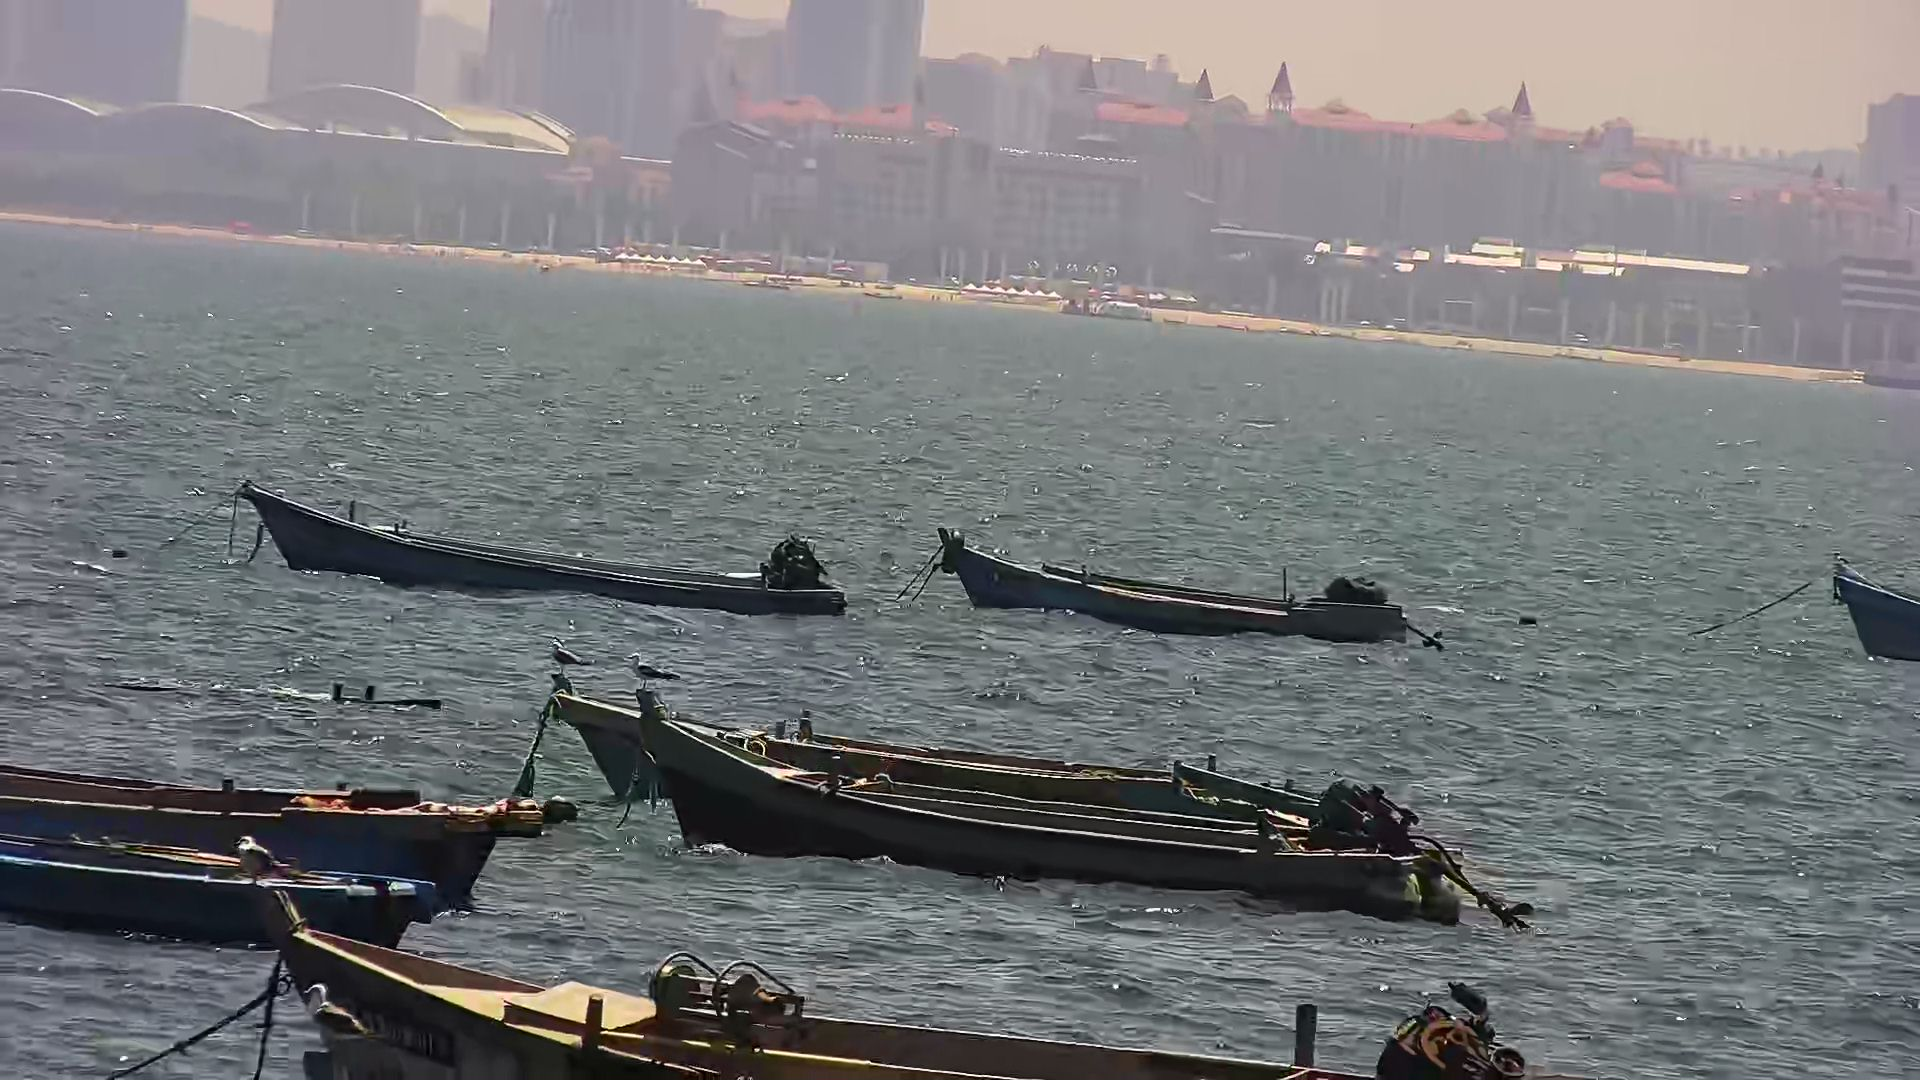ball: (1514, 605, 1564, 637)
boat: (249, 902, 1563, 1080), (620, 688, 1542, 928), (524, 628, 1414, 810), (206, 444, 858, 622), (916, 505, 1498, 669), (3, 708, 530, 884), (3, 825, 452, 944)
